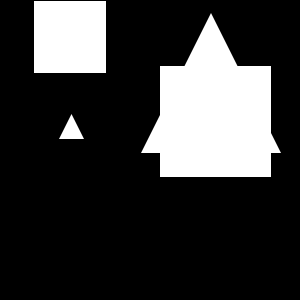circle: (160, 66, 271, 177), (34, 1, 106, 73)
triangle: (141, 13, 281, 153), (59, 114, 84, 139)
